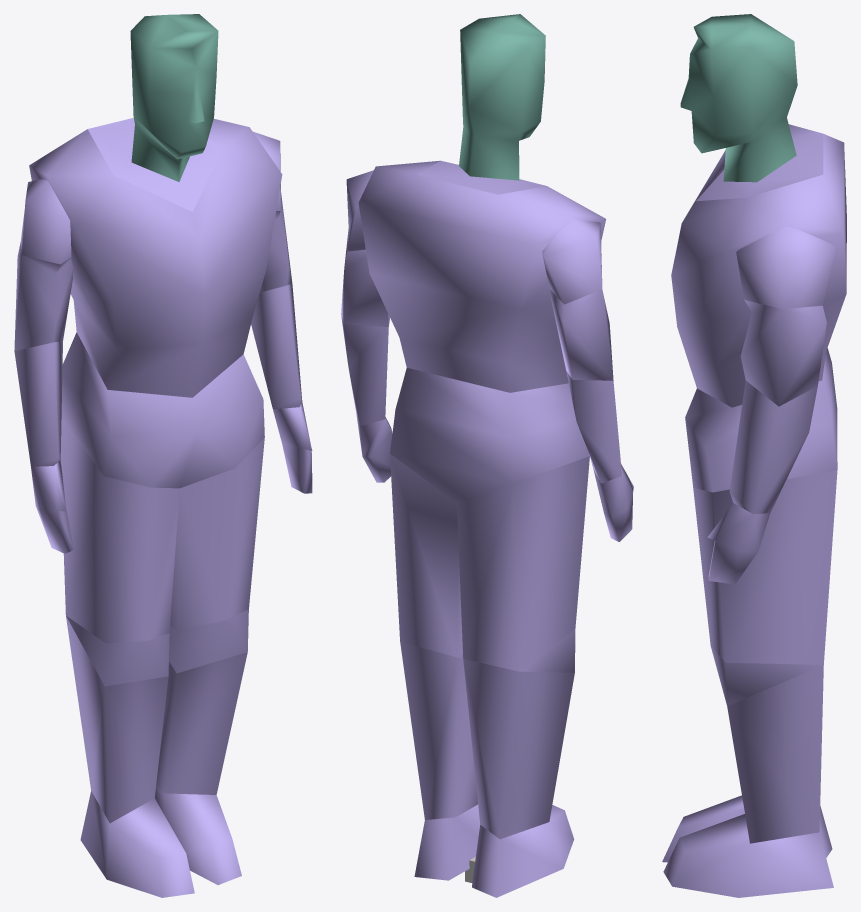
File: gordon.obj
3 views of the same model, side by side, from view 1: azimuth 30°, elevation 25°; view 2: azimuth 150°, elevation 25°; view 3: azimuth 270°, elevation 25° (orthographic). The views are drawn at different scales.
Parts seen in each view (by area): view 1: DM_Gordon_Head1; view 2: DM_Gordon_Head1; view 3: DM_Gordon_Head1.
Part boxes in pixels (x1,y1,x2,y2): DM_Gordon_Head1: [14, 14, 312, 897]; DM_Gordon_Head1: [341, 14, 633, 897]; DM_Gordon_Head1: [662, 14, 846, 897].
Size of the model in its own units: 25.68 by 75.55 by 14.73.
